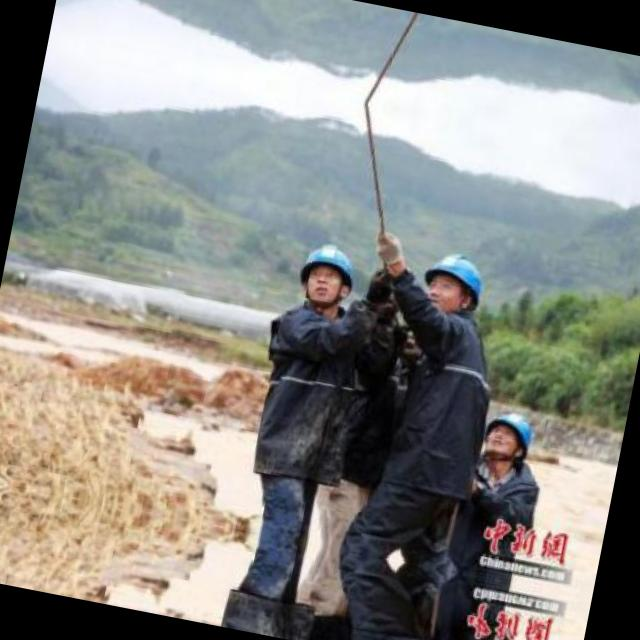helmet: (289, 232, 366, 317), (414, 246, 494, 322), (474, 403, 538, 476)
